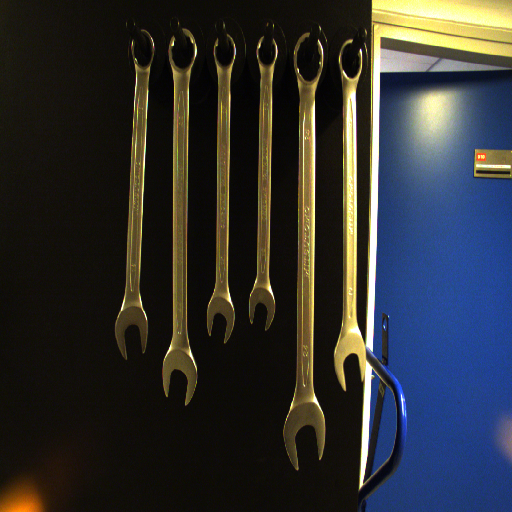bottom: (278, 399, 330, 473), (329, 329, 369, 392), (159, 345, 198, 408), (113, 307, 152, 359), (204, 295, 238, 346), (246, 287, 276, 333)
top: (289, 29, 327, 87), (166, 28, 199, 72), (336, 35, 363, 87), (126, 26, 157, 70), (211, 32, 236, 69), (254, 33, 279, 69)
